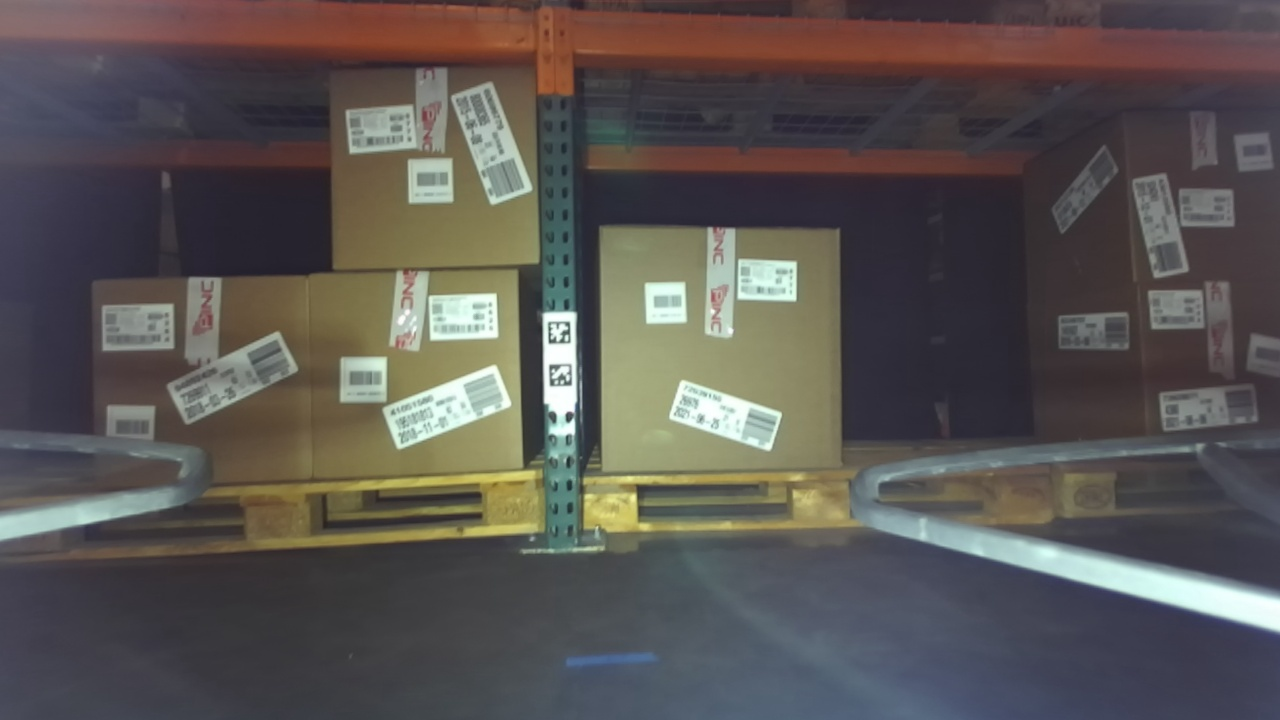box: (567, 197, 863, 501), (80, 250, 326, 537), (291, 252, 561, 510), (294, 37, 565, 290), (1094, 84, 1280, 291), (1090, 267, 1280, 460)
